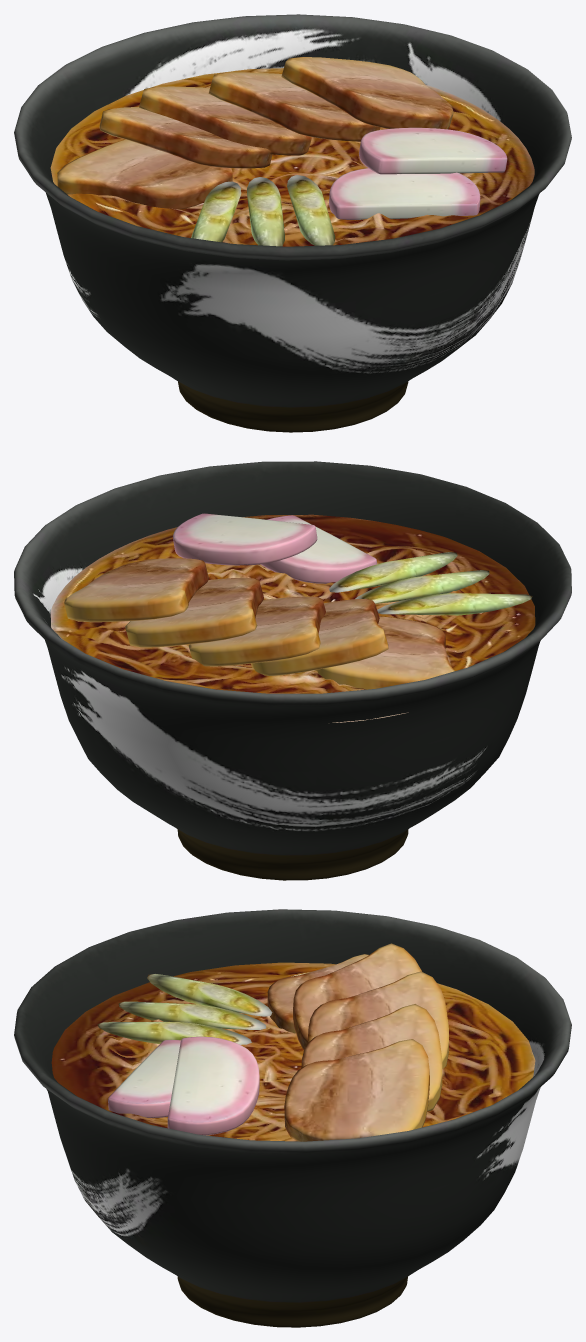
File: kamosoba_comp.glb
3 renders of one model, top to bottom at view 1: azimuth 30°, elevation 25°; view 2: azimuth 150°, elevation 25°; view 3: azimuth 270°, elevation 25°, orthographic.
Visible parts, largest first — view 1: KamoSoba; view 2: KamoSoba; view 3: KamoSoba.
Part boxes in pixels (bbox=[...]): KamoSoba: bbox=[14, 14, 571, 432]; KamoSoba: bbox=[14, 461, 571, 880]; KamoSoba: bbox=[14, 909, 571, 1327].
Bounding box in the file's own units: 0.1772 × 0.0941 × 0.1772.
2 materials, 2 textured.
